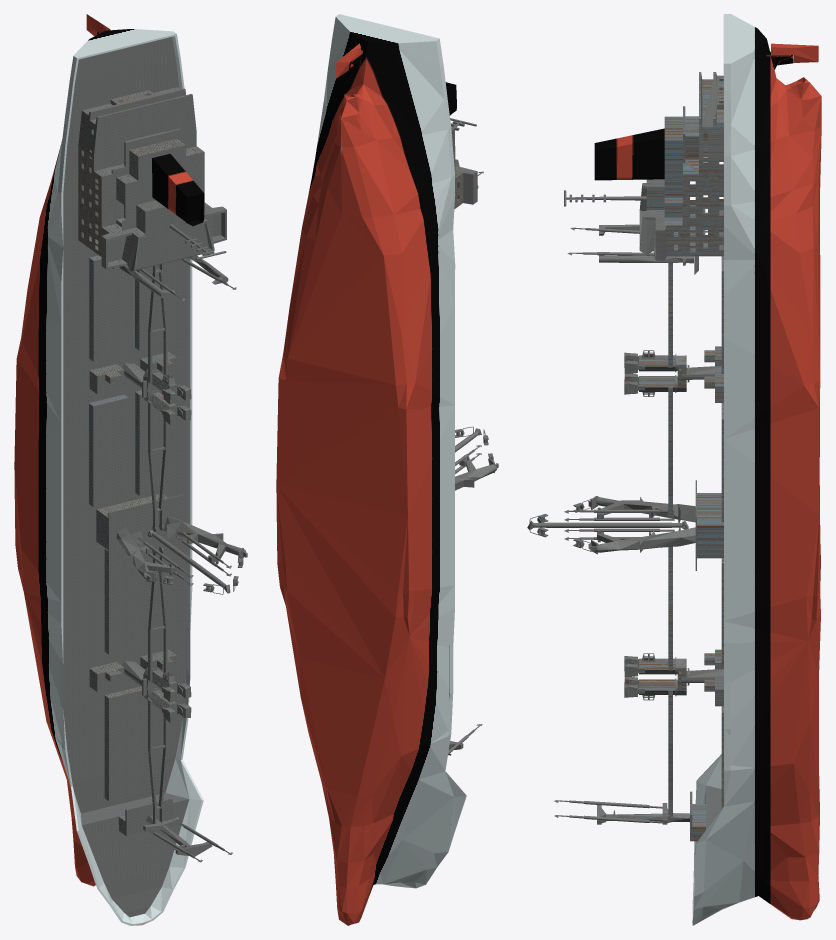
Rendered from SecondShip.dae.
3 renders of one model, left to right at view 1: azimuth 30°, elevation 25°; view 2: azimuth 150°, elevation 25°; view 3: azimuth 270°, elevation 25°, orthographic.
Visible parts, largest first — view 1: node; view 2: node; view 3: node.
Part boxes in pixels (x1,y1,x2,y2): node: (14,14,247,925); node: (276,14,498,925); node: (527,14,821,925).
Bounding box in the file's own units: 18.37 × 115 × 34.82.
